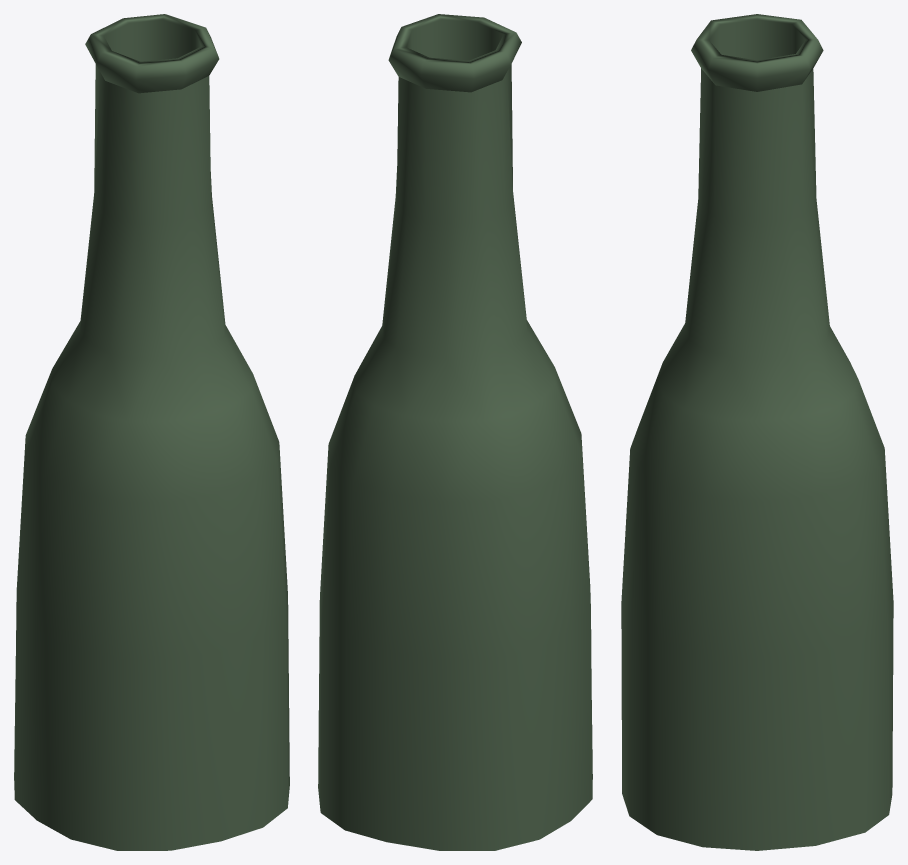
The model's file is BEER_r.fbx.
The picture shows the model from 3 angles, left to right: view 1: azimuth 30°, elevation 25°; view 2: azimuth 150°, elevation 25°; view 3: azimuth 270°, elevation 25°; orthographic projection.
Visible parts, largest first — view 1: pCube14; view 2: pCube14; view 3: pCube14.
Boxes of the visible parts, bbox=[...] form: pCube14: bbox=[14, 14, 289, 850]; pCube14: bbox=[318, 14, 592, 850]; pCube14: bbox=[621, 14, 893, 850].
Bounding box in the file's own units: 0.9369 × 2.87 × 0.9394.
